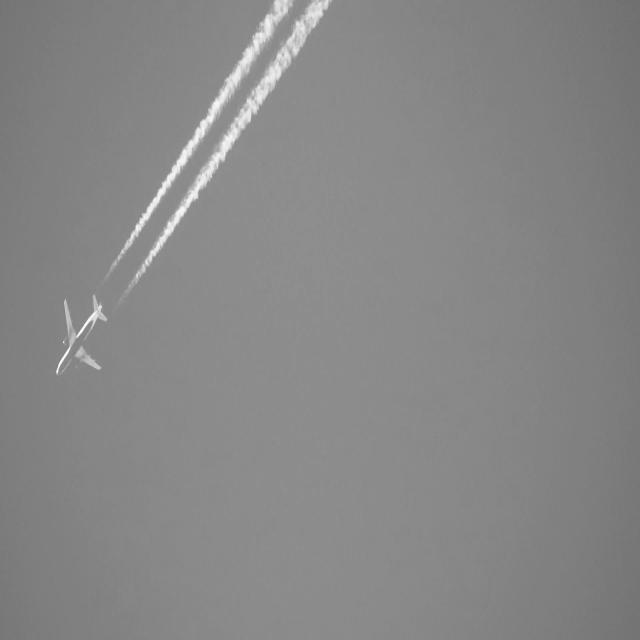aeroplane: (52, 292, 108, 385)
